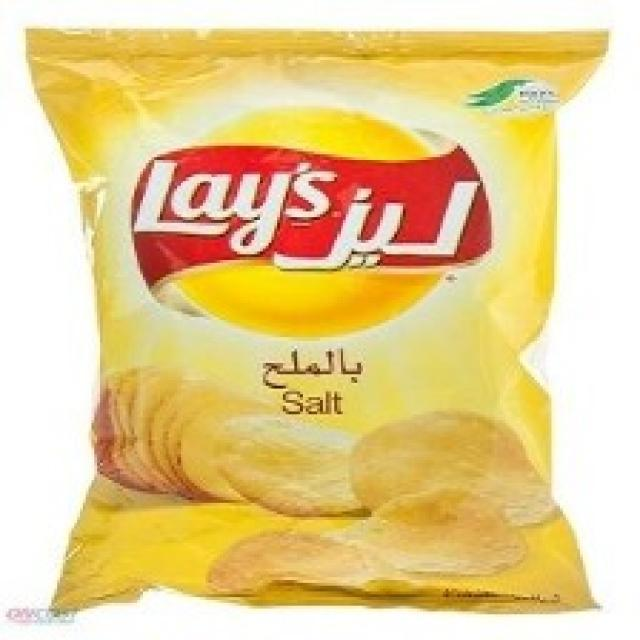plastic: (23, 22, 617, 612)
